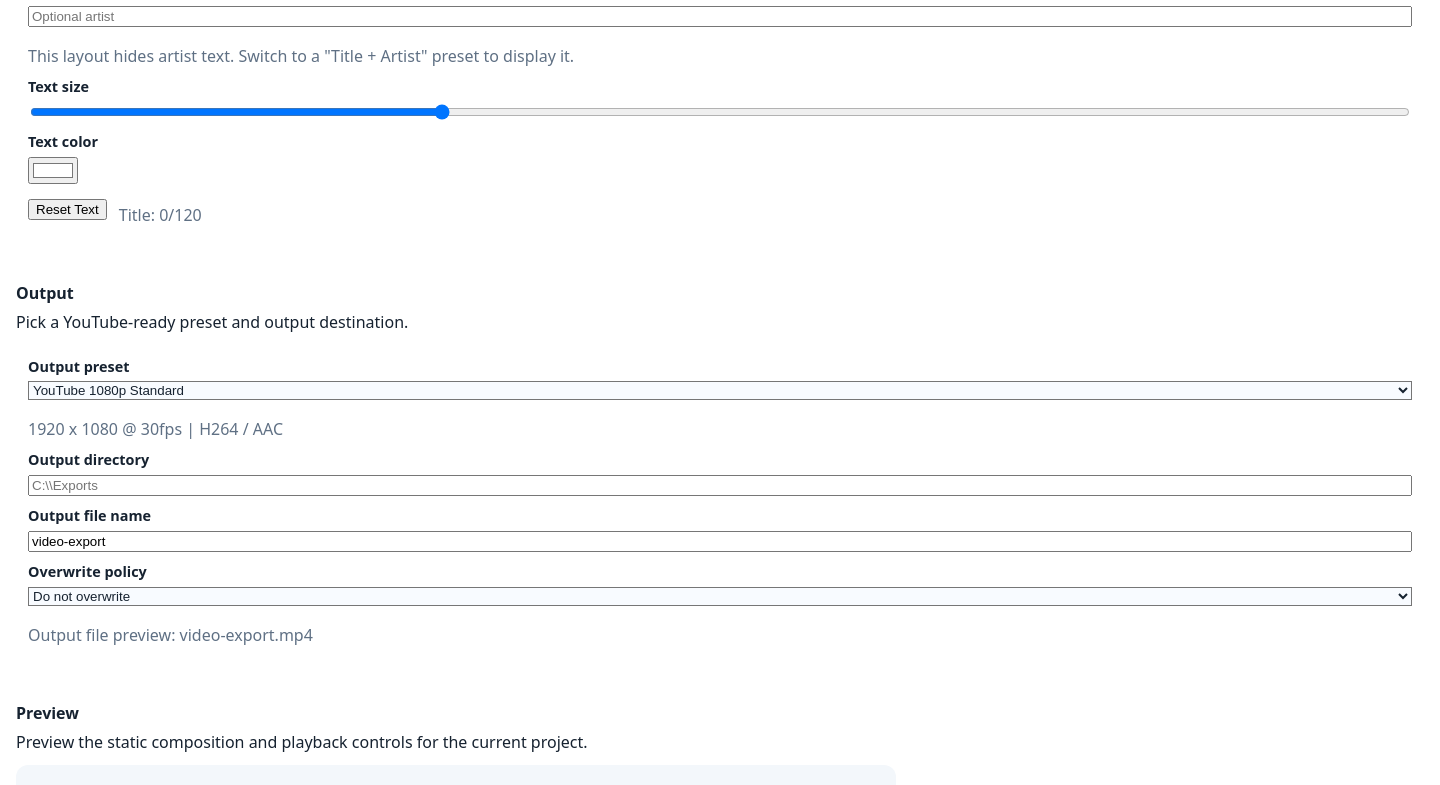
Scenario: VideoWorkspaceFeature › applies output preset selection and file preview path
The width and height of the screenshot is (1440, 785).
(page scrolled)
Select "YouTube 1440p Standard" in the dropdown labelled "Output preset": (720, 391) [28, 381, 1412, 400]
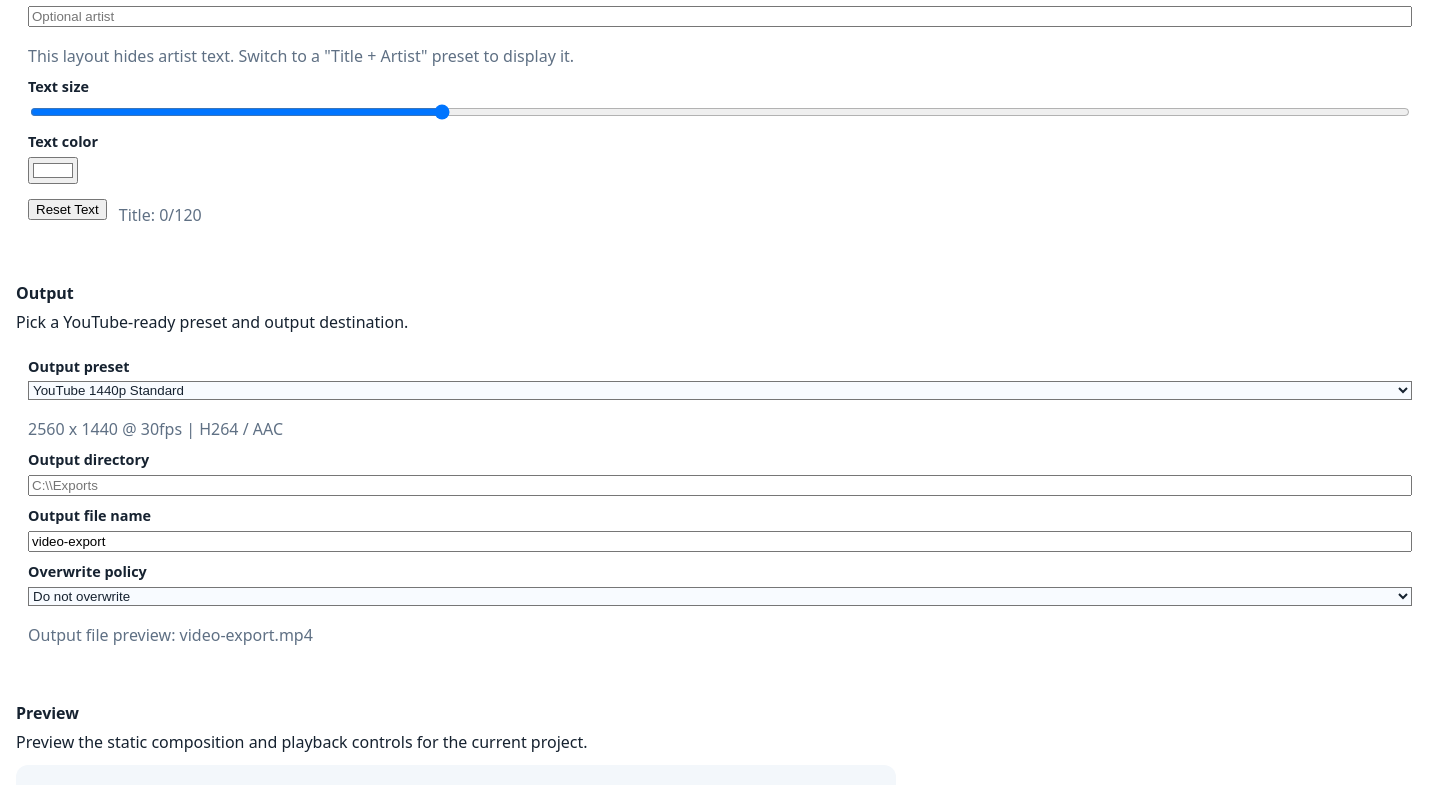
In the field labelled "Output directory": (720, 486) [28, 475, 1412, 496], type "C:\\Exports"
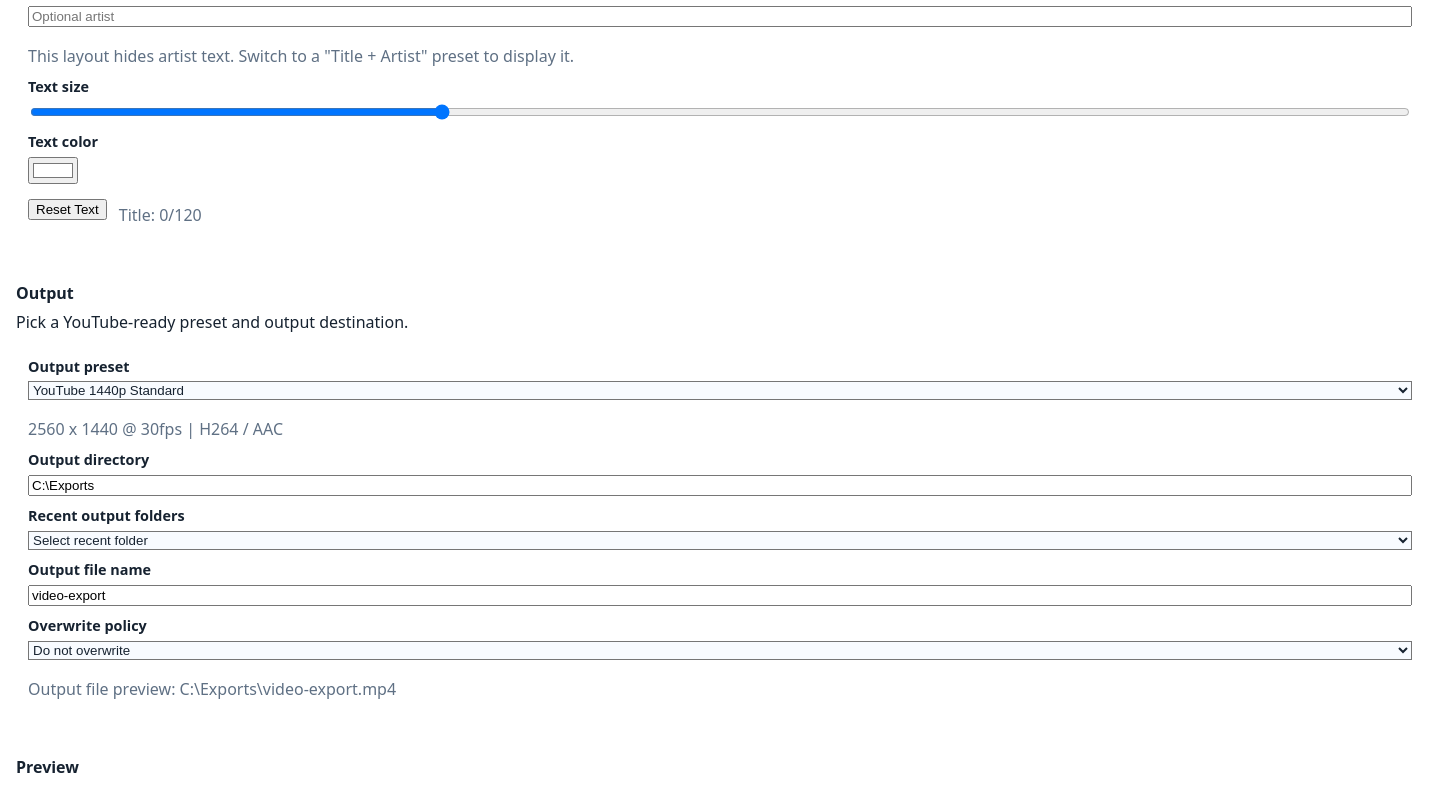
In the field labelled "Output file name": (720, 596) [28, 585, 1412, 606], type "session-01"
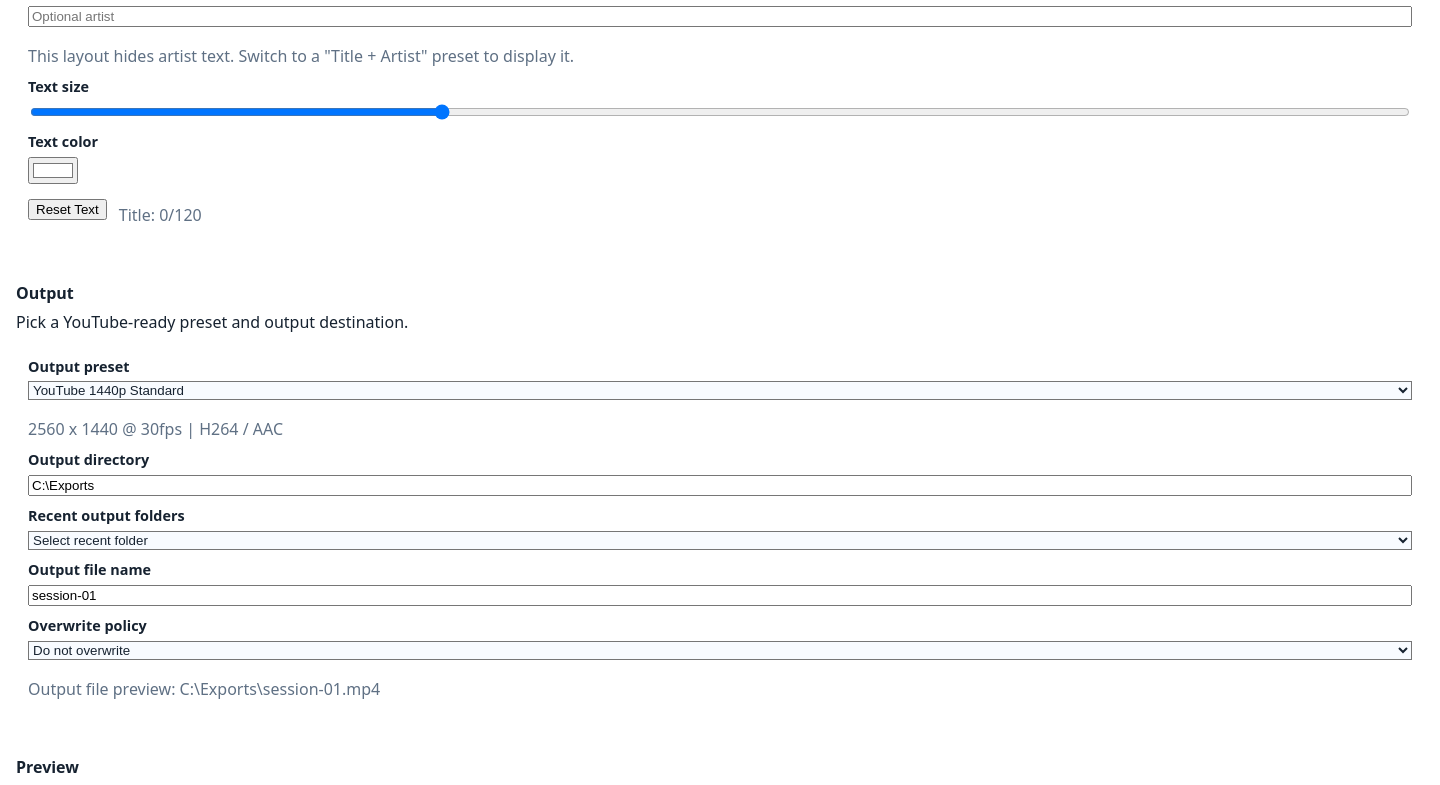
Expected: the text with test id "video-output-preset-summary" shows "2560 x 1440", [28, 418, 283, 440]
Expected: the text with test id "video-output-file-preview" shows "C:\\Exports\\session-01.mp4", [180, 678, 380, 700]
